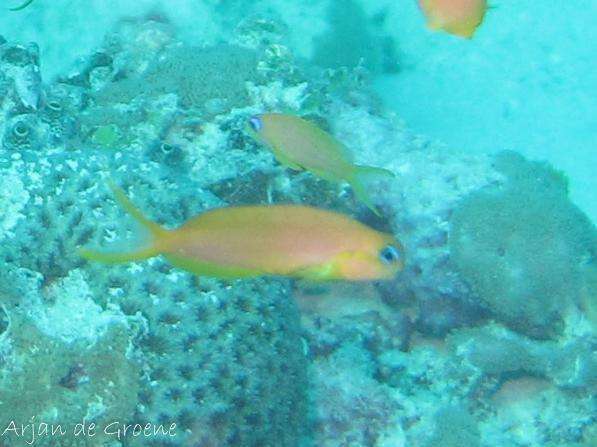Fish: (66, 153, 422, 330), (227, 90, 432, 220)
